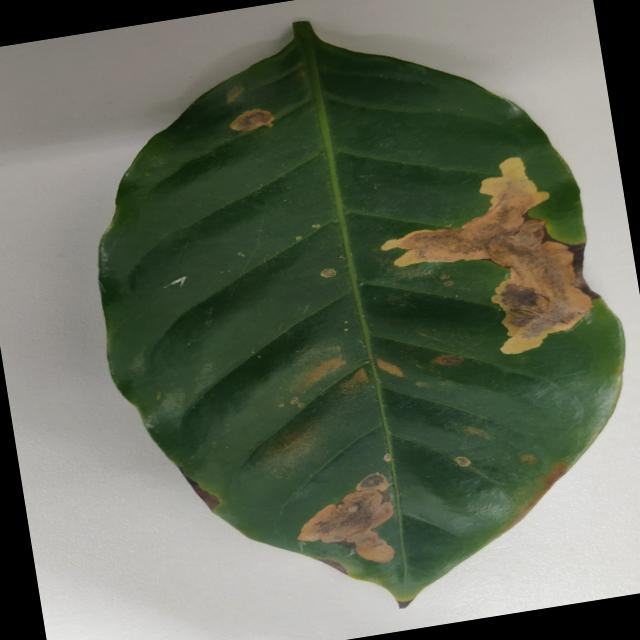KaratDaunKopi: (381, 157, 591, 354), (297, 473, 395, 563), (230, 109, 274, 131), (578, 364, 619, 378), (376, 358, 404, 377), (436, 355, 464, 365), (454, 456, 471, 467), (520, 454, 537, 465), (320, 268, 336, 278), (384, 454, 391, 462), (312, 224, 321, 228), (296, 236, 302, 241), (239, 253, 245, 257)
